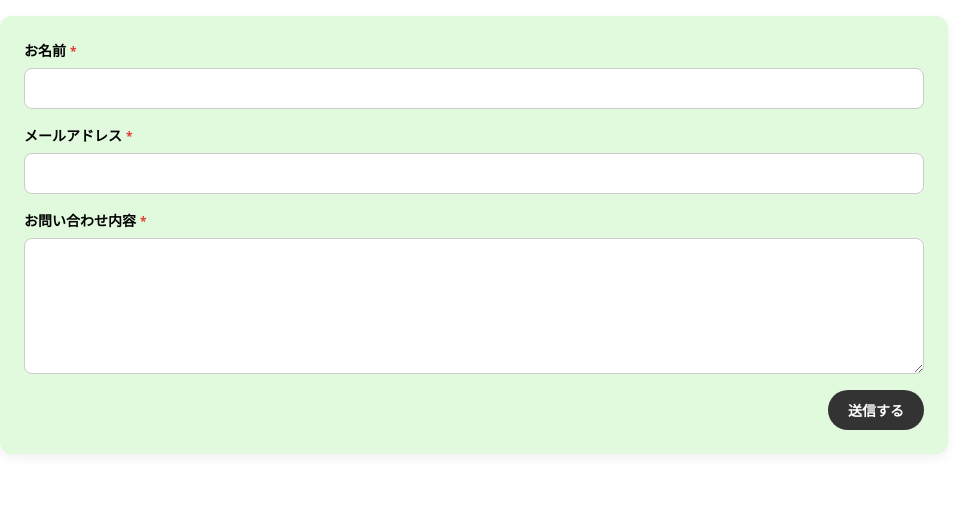
Test: ContactForm › 正しく入力すると送信成功メッセージを表示し、フォームをリセットする
In the field with id "name": (474, 88) [24, 68, 924, 109], type "テストユーザー"
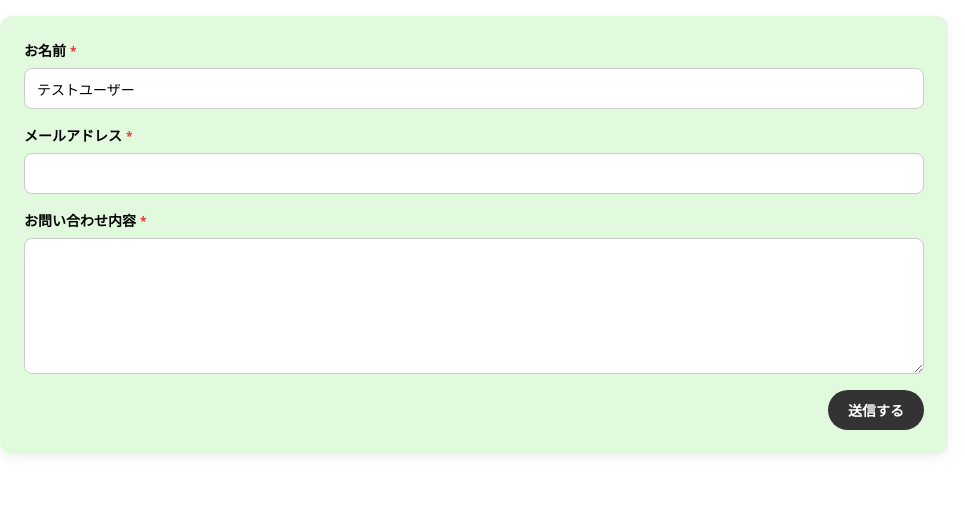
In the field with id "email": (474, 174) [24, 153, 924, 194], type "test@example.com"
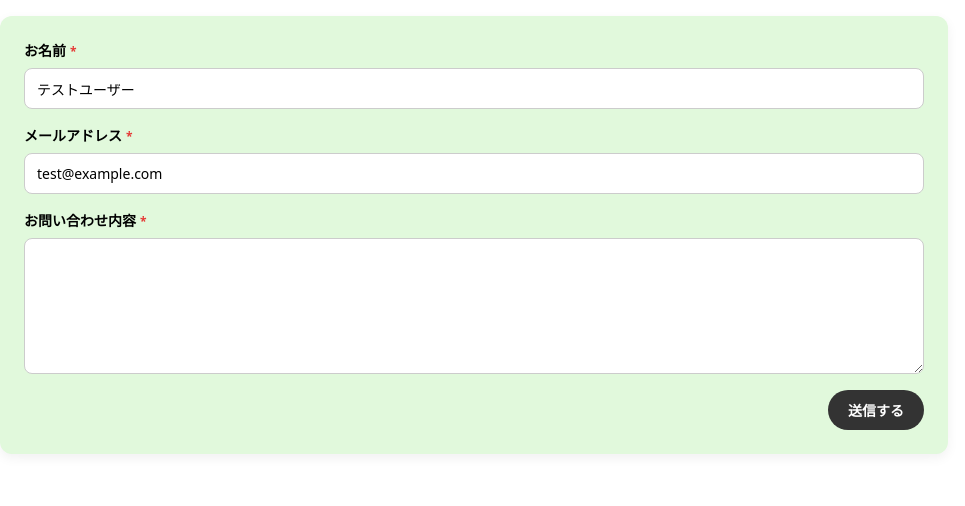
In the text box with id "message": (474, 306) [24, 238, 924, 374], type "お問い合わせ本文"
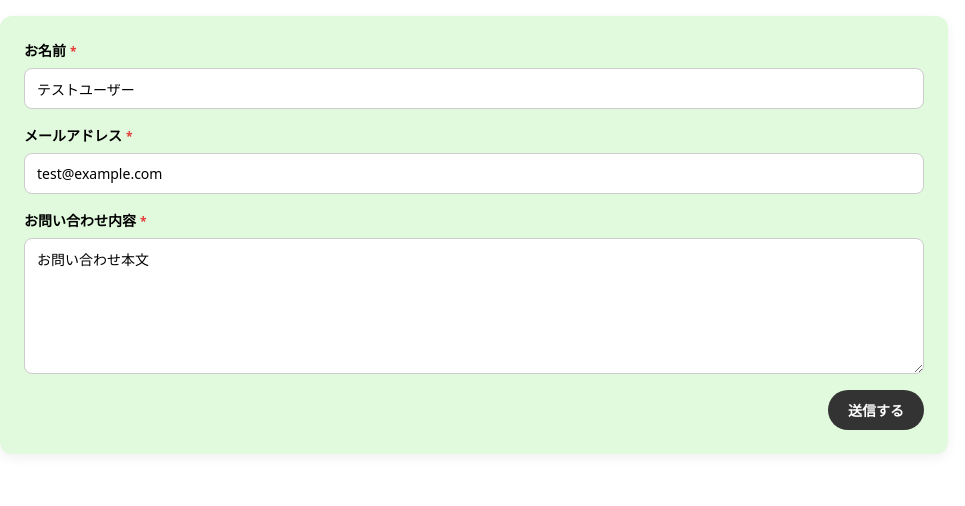
Submit the form
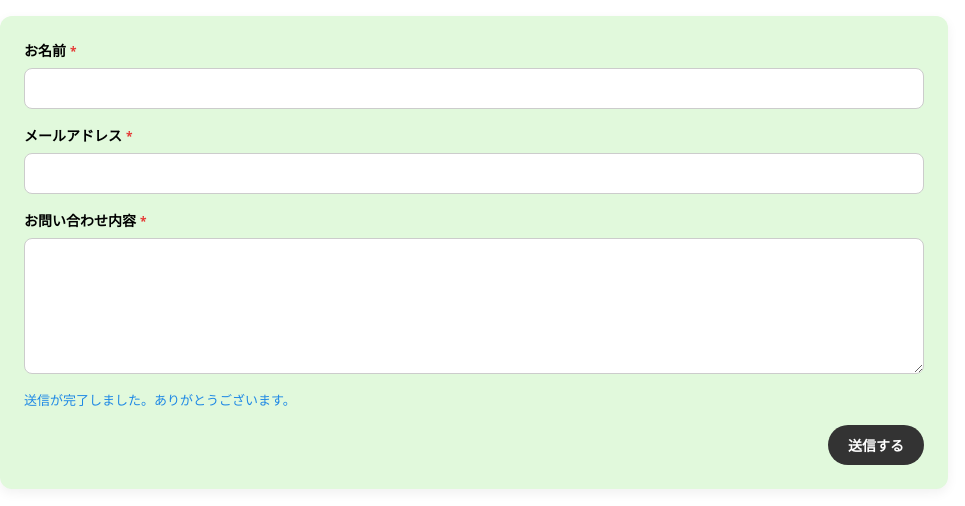
Expected: the form shows "送信が完了しました。ありがとうございます。", [24, 391, 296, 409]
Expected: the field with id "name" is empty, [24, 68, 924, 109]
Expected: the field with id "email" is empty, [24, 153, 924, 194]
